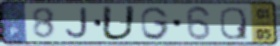6: (185, 5, 213, 42)
8: (31, 6, 59, 40)
G: (139, 5, 171, 41)
J: (64, 6, 90, 40)
Q: (219, 6, 250, 41)
U: (99, 4, 139, 42)
